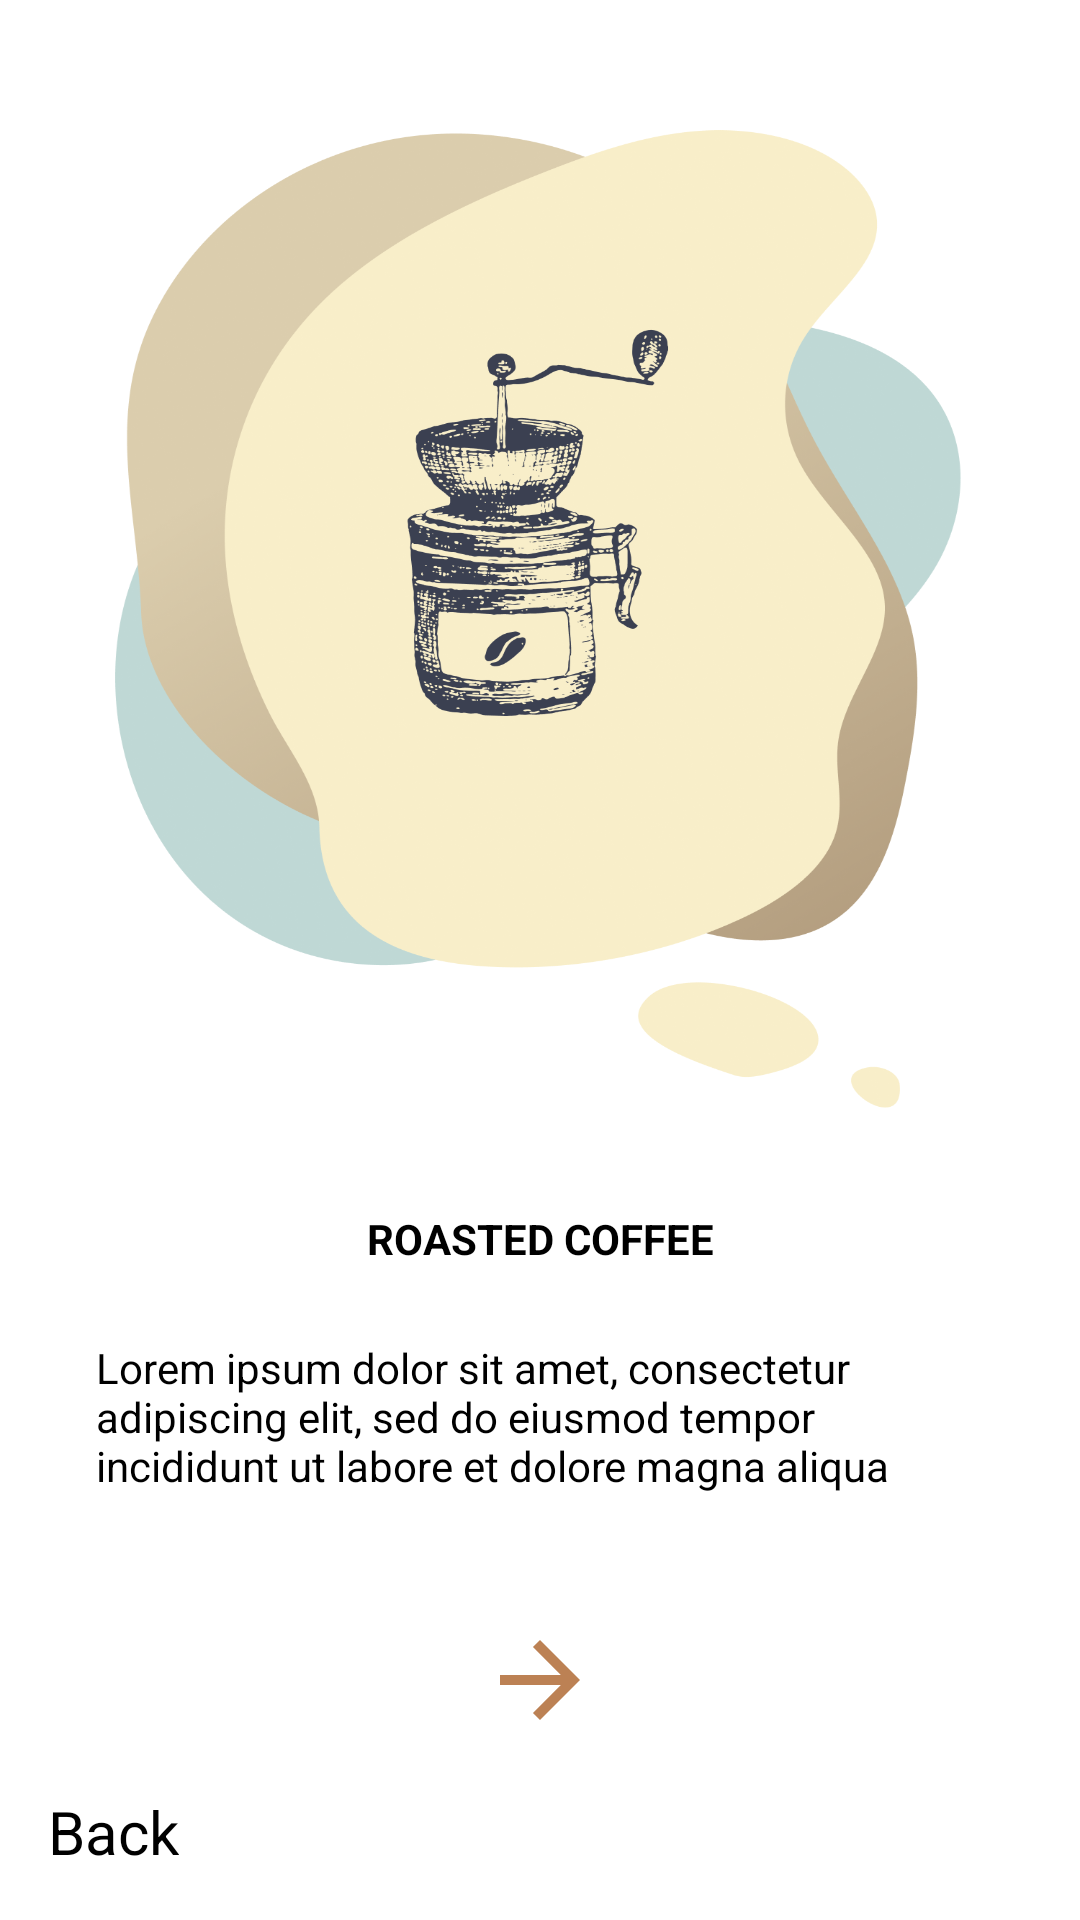

Screen size 1080×1920. Icon name, then its box in pixels as Rect(x1, y1, x2, y2):
arrow forward: Rect(500, 1640, 580, 1720)
